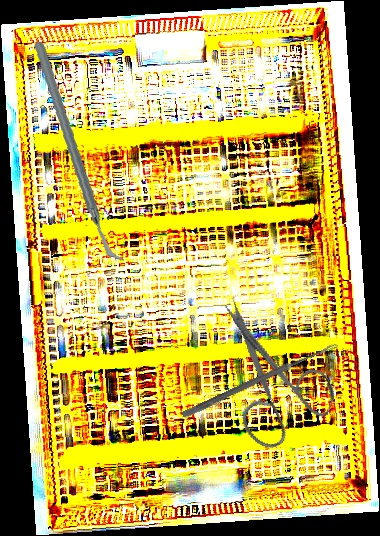Chopper: (15, 40, 143, 266)
Iris Scissors: (181, 296, 355, 465)
Surgical Spoon: (181, 340, 339, 420)
